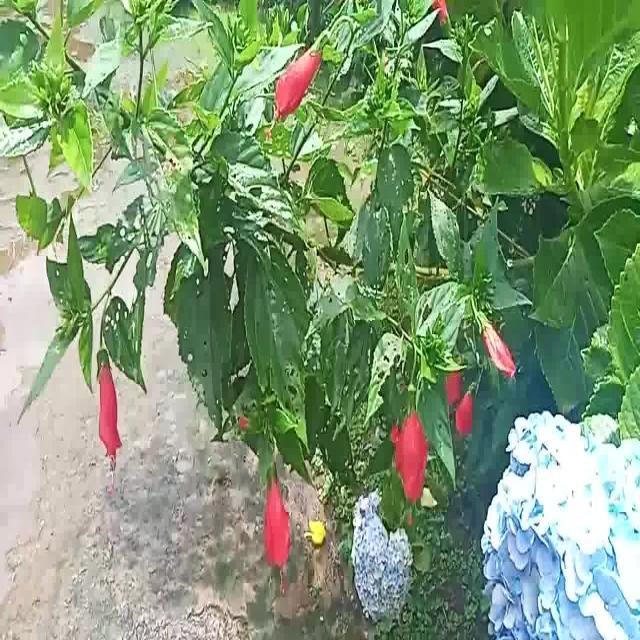Flower: (478, 387, 639, 640), (350, 483, 414, 624), (270, 32, 336, 119), (89, 341, 125, 469), (262, 470, 296, 582), (397, 402, 437, 496), (476, 313, 520, 384)
